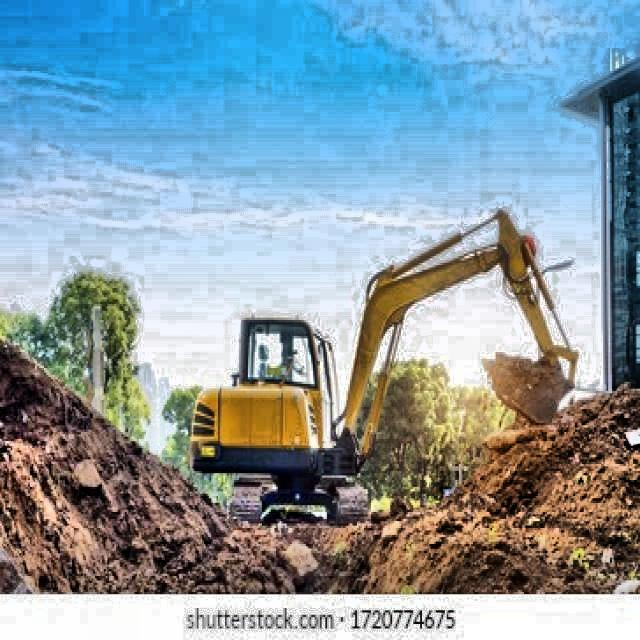excavator: (182, 204, 583, 526)
